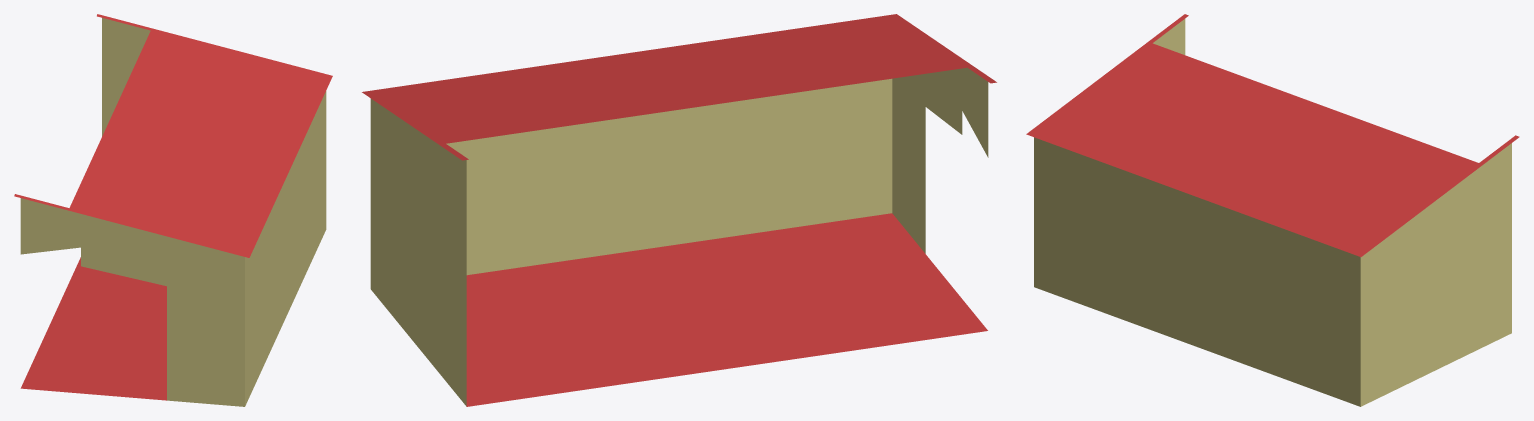
The picture shows the model from 3 angles, left to right: view 1: azimuth 30°, elevation 25°; view 2: azimuth 150°, elevation 25°; view 3: azimuth 270°, elevation 25°; orthographic projection. The views are drawn at different scales.
Bounding box in the file's own units: 20.97 × 21.86 × 9.58.
